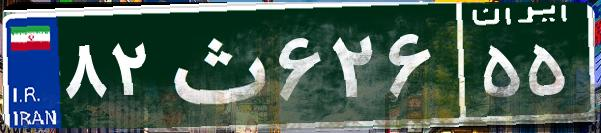2: (330, 28, 385, 110), (110, 28, 158, 105)
5: (475, 38, 525, 113), (525, 38, 570, 115)
6: (385, 28, 445, 110), (273, 28, 330, 110)
8: (57, 26, 110, 107)
ث: (158, 15, 273, 115)
